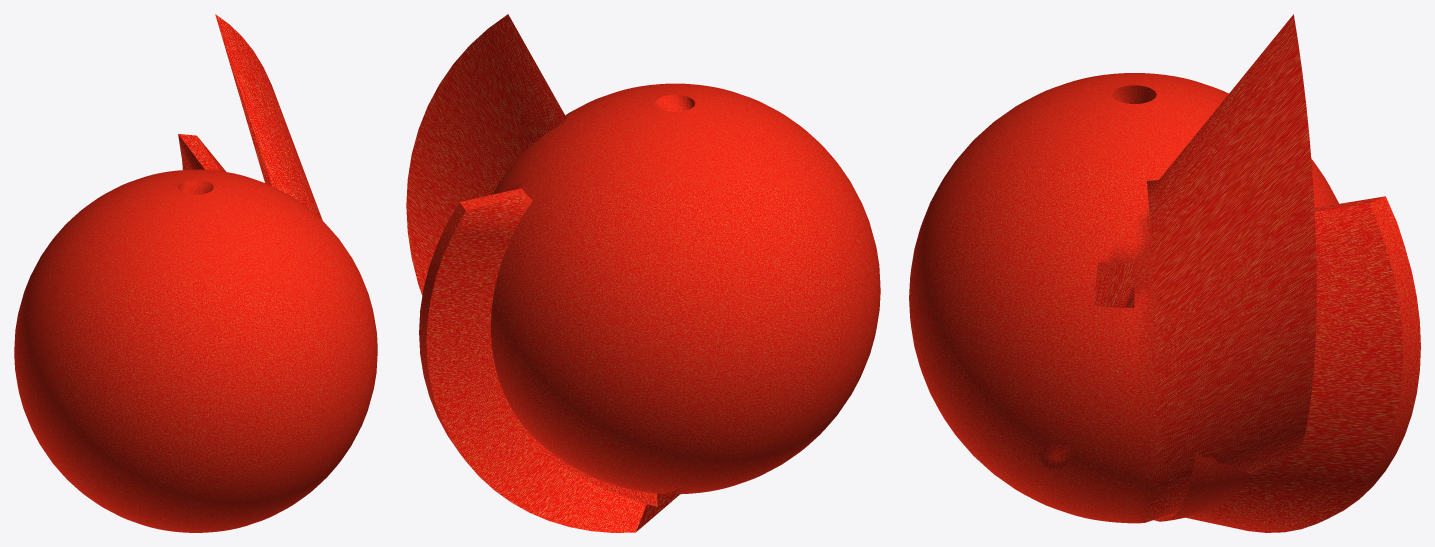
Rendered from asset.glb.
The picture shows the model from 3 angles, left to right: view 1: azimuth 30°, elevation 25°; view 2: azimuth 150°, elevation 25°; view 3: azimuth 270°, elevation 25°; orthographic projection. The views are drawn at different scales.
Parts seen in each view (by area): view 1: Sphere - baked; view 2: Sphere - baked; view 3: Sphere - baked.
Part boxes in pixels (<box>): Sphere - baked: <box>14,14,377,532</box>; Sphere - baked: <box>406,14,880,532</box>; Sphere - baked: <box>909,14,1420,532</box>.
Size of the model in its own units: 0.2629 by 0.3559 by 0.2923.
Materials: 1 (1 with a texture image).
